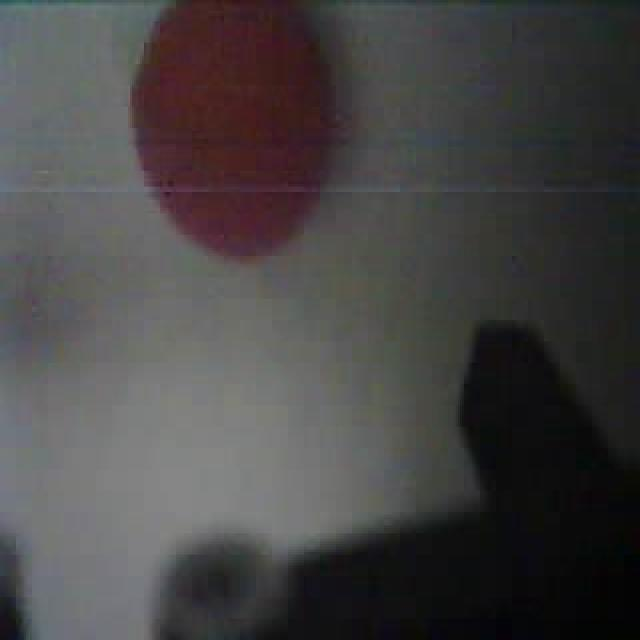red_ball: (124, 0, 350, 267)
